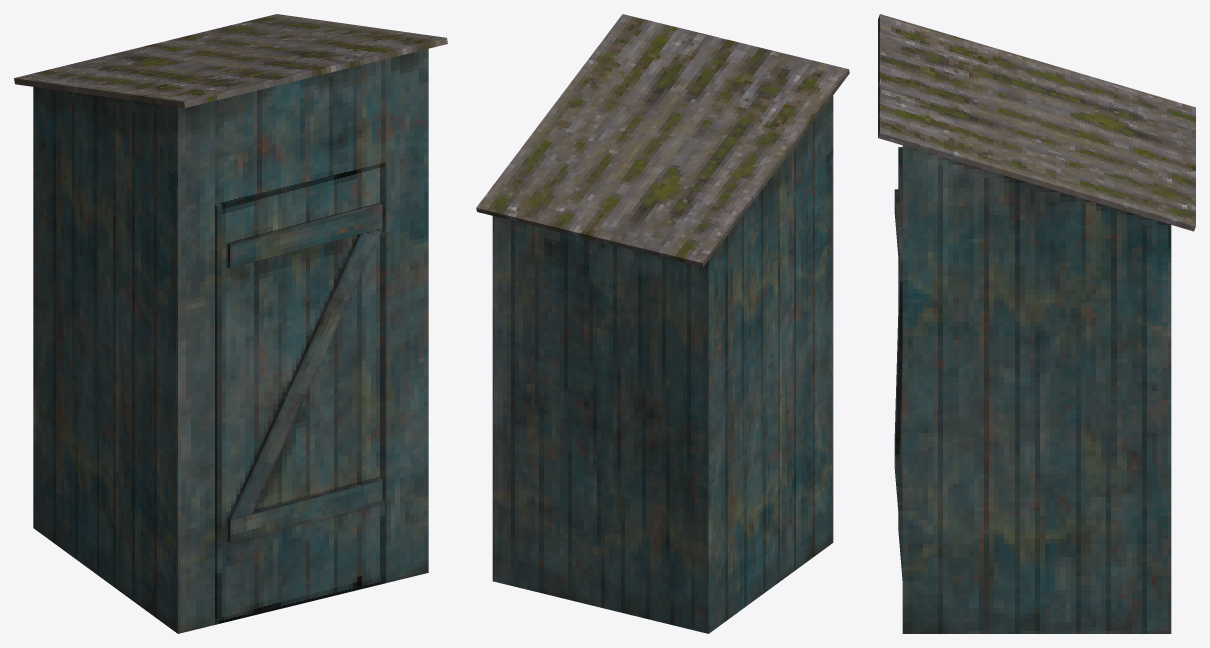
The model's file is toilet_psx_animated.glb.
3 renders of one model, left to right at view 1: azimuth 30°, elevation 25°; view 2: azimuth 150°, elevation 25°; view 3: azimuth 270°, elevation 25°, orthographic. The views are drawn at different scales.
Parts seen in each view (by area): view 1: Toilet, ToiletDoors; view 2: Toilet; view 3: Toilet, ToiletDoors.
Boxes of the visible parts, bbox=[...] form: Toilet: bbox=[14, 14, 447, 633]; ToiletDoors: bbox=[215, 163, 385, 619]; Toilet: bbox=[476, 14, 849, 633]; Toilet: bbox=[878, 14, 1195, 633]; ToiletDoors: bbox=[894, 147, 902, 580].
Bounding box in the file's own units: 1.17 × 2.3 × 1.31.
1 material, 1 textured.
